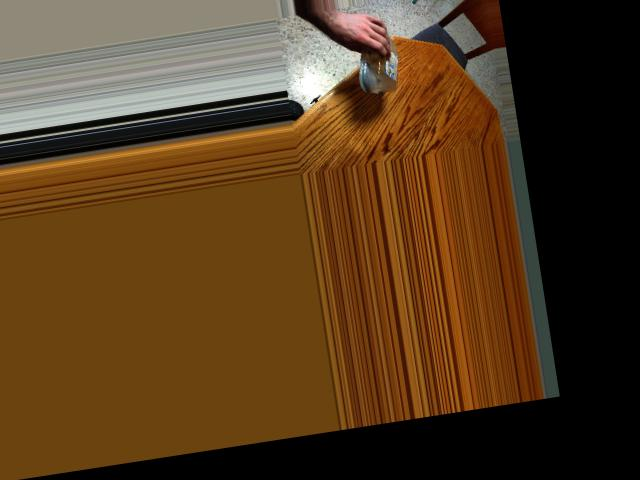cheese: (347, 25, 402, 85)
